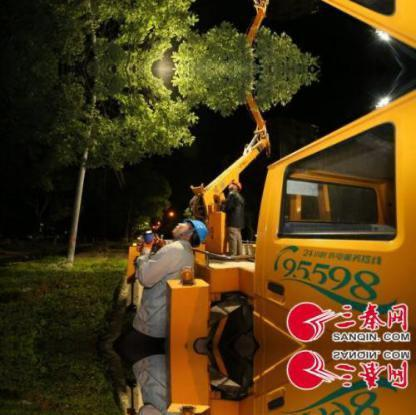helmet: (189, 215, 213, 250)
